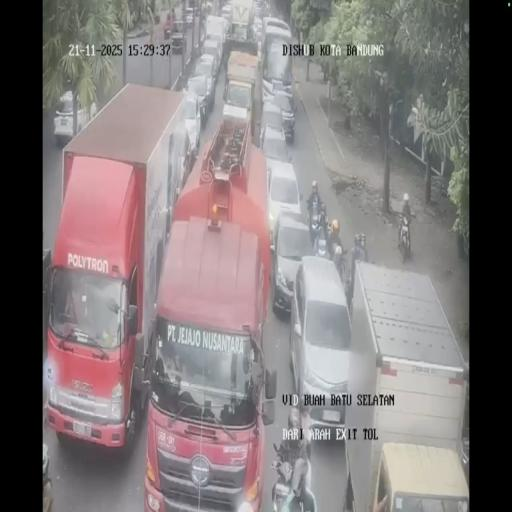3: (46, 82, 198, 455), (335, 262, 468, 511), (261, 18, 293, 92), (224, 0, 257, 54), (169, 17, 187, 52)
car: (271, 208, 315, 316), (258, 102, 287, 154), (185, 72, 212, 127), (201, 38, 221, 78), (252, 18, 264, 48), (220, 3, 232, 25), (252, 0, 263, 18), (184, 9, 194, 27)
truck: (397, 212, 413, 264), (330, 239, 348, 284), (308, 202, 322, 244)
